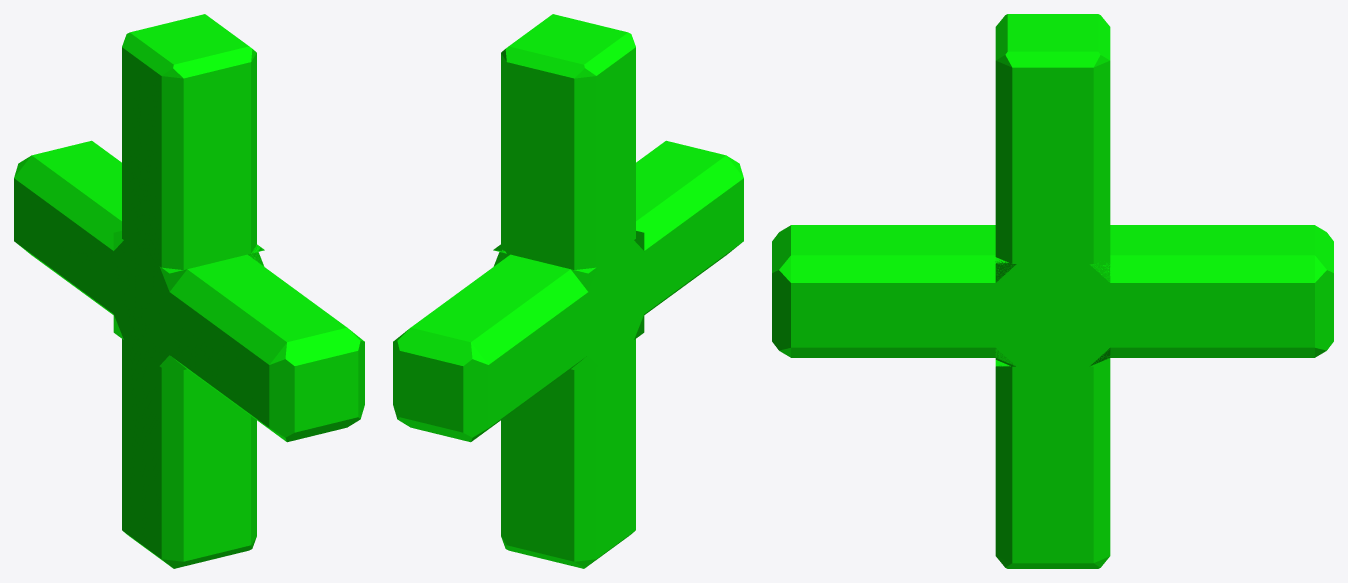
File: HealthPickupPrefab.fbx
3 renders of one model, left to right at view 1: azimuth 30°, elevation 25°; view 2: azimuth 150°, elevation 25°; view 3: azimuth 270°, elevation 25°, orthographic. The views are drawn at different scales.
Parts seen in each view (by area): view 1: Cube; view 2: Cube; view 3: Cube.
Part boxes in pixels (box(x1,y1,x2,y2)): Cube: box(14, 14, 364, 568); Cube: box(393, 14, 743, 568); Cube: box(772, 14, 1333, 568).
Bounding box in the file's own units: 200 × 1008 × 993.
